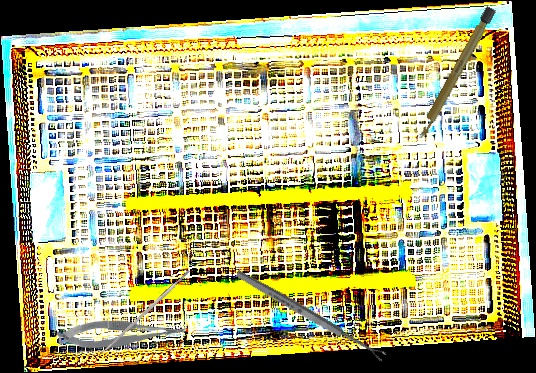Micro Scissor: (55, 317, 190, 353)
Scalpel Handle: (414, 5, 497, 142), (99, 269, 192, 356)
Surgical Spoon: (234, 268, 387, 363)
